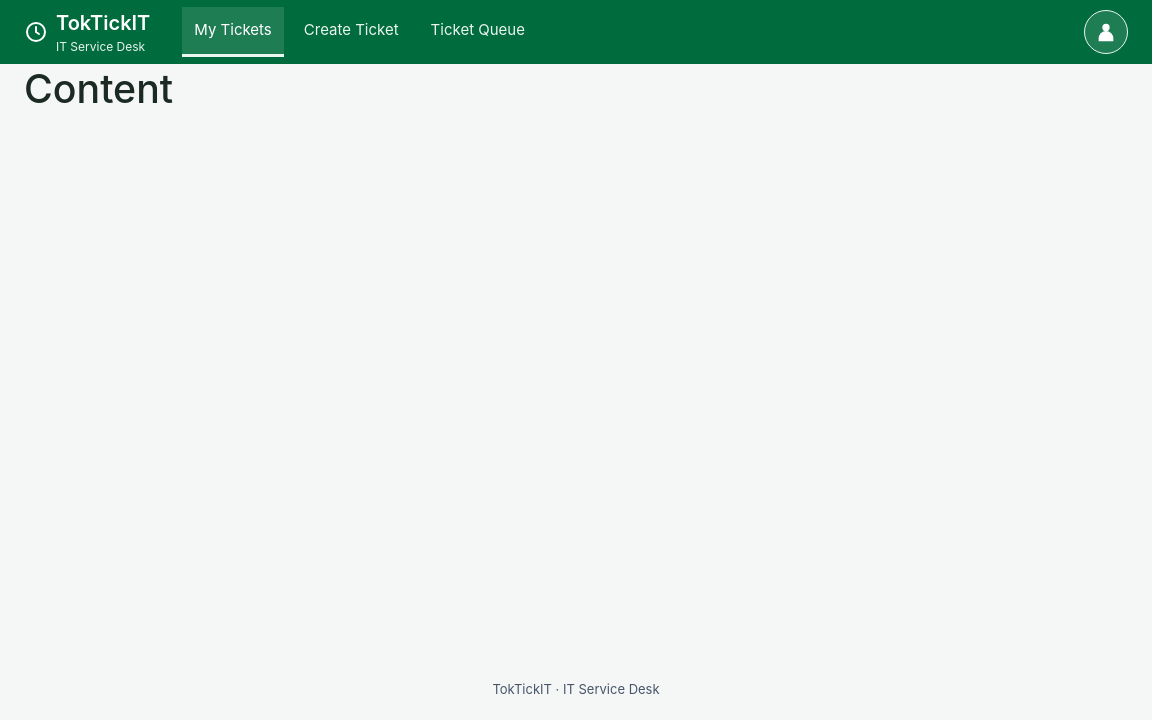
UI-SHELL-01: uses the shared profile menu for IT_STAFF
The width and height of the screenshot is (1152, 720).
Expected: the text "Jennifer Anderson" is not shown
Click the button named "Open profile menu": point(1106, 32) [1084,10,1128,54]
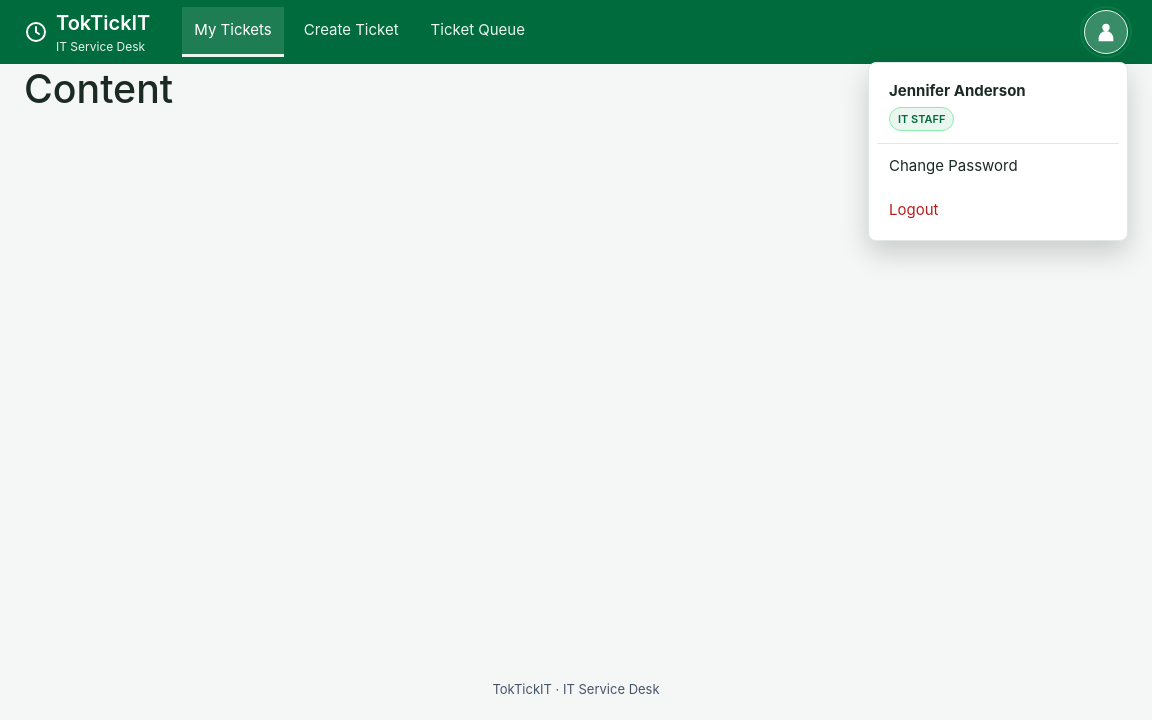
Expected: the button named "Open profile menu" is expanded, [1084,10,1128,54]
Expected: the text "Jennifer Anderson" is shown, [889,81,1026,100]
